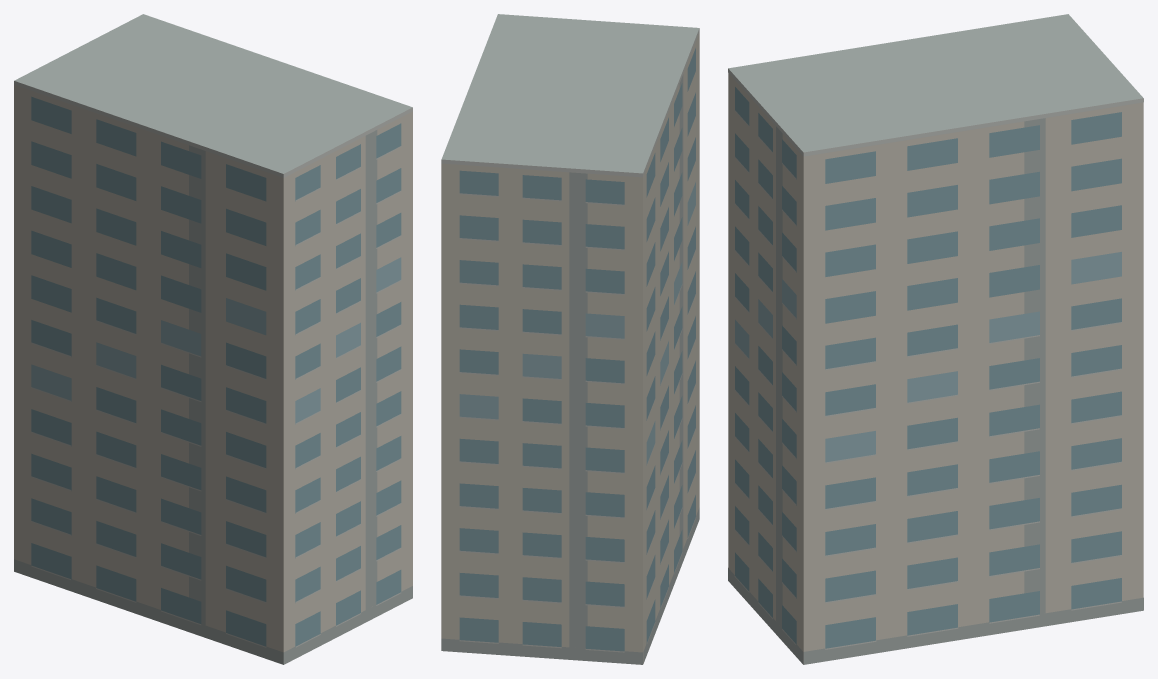
Rendered from residential-994899e7-cf30-4635-837b-44e57e64c085.glb.
3 views of the same model, side by side, from view 1: azimuth 30°, elevation 25°; view 2: azimuth 150°, elevation 25°; view 3: azimuth 270°, elevation 25° (orthographic). The views are drawn at different scales.
Parts seen in each view (by area): view 1: residential-994899e7-cf30-4635-837b-44e57e64c085.tmp; view 2: residential-994899e7-cf30-4635-837b-44e57e64c085.tmp; view 3: residential-994899e7-cf30-4635-837b-44e57e64c085.tmp.
Part boxes in pixels (bbox=[...]): residential-994899e7-cf30-4635-837b-44e57e64c085.tmp: bbox=[14, 14, 412, 664]; residential-994899e7-cf30-4635-837b-44e57e64c085.tmp: bbox=[441, 14, 699, 664]; residential-994899e7-cf30-4635-837b-44e57e64c085.tmp: bbox=[728, 14, 1143, 664].
Size of the model in its own units: 17.4 by 30 by 22.06.
